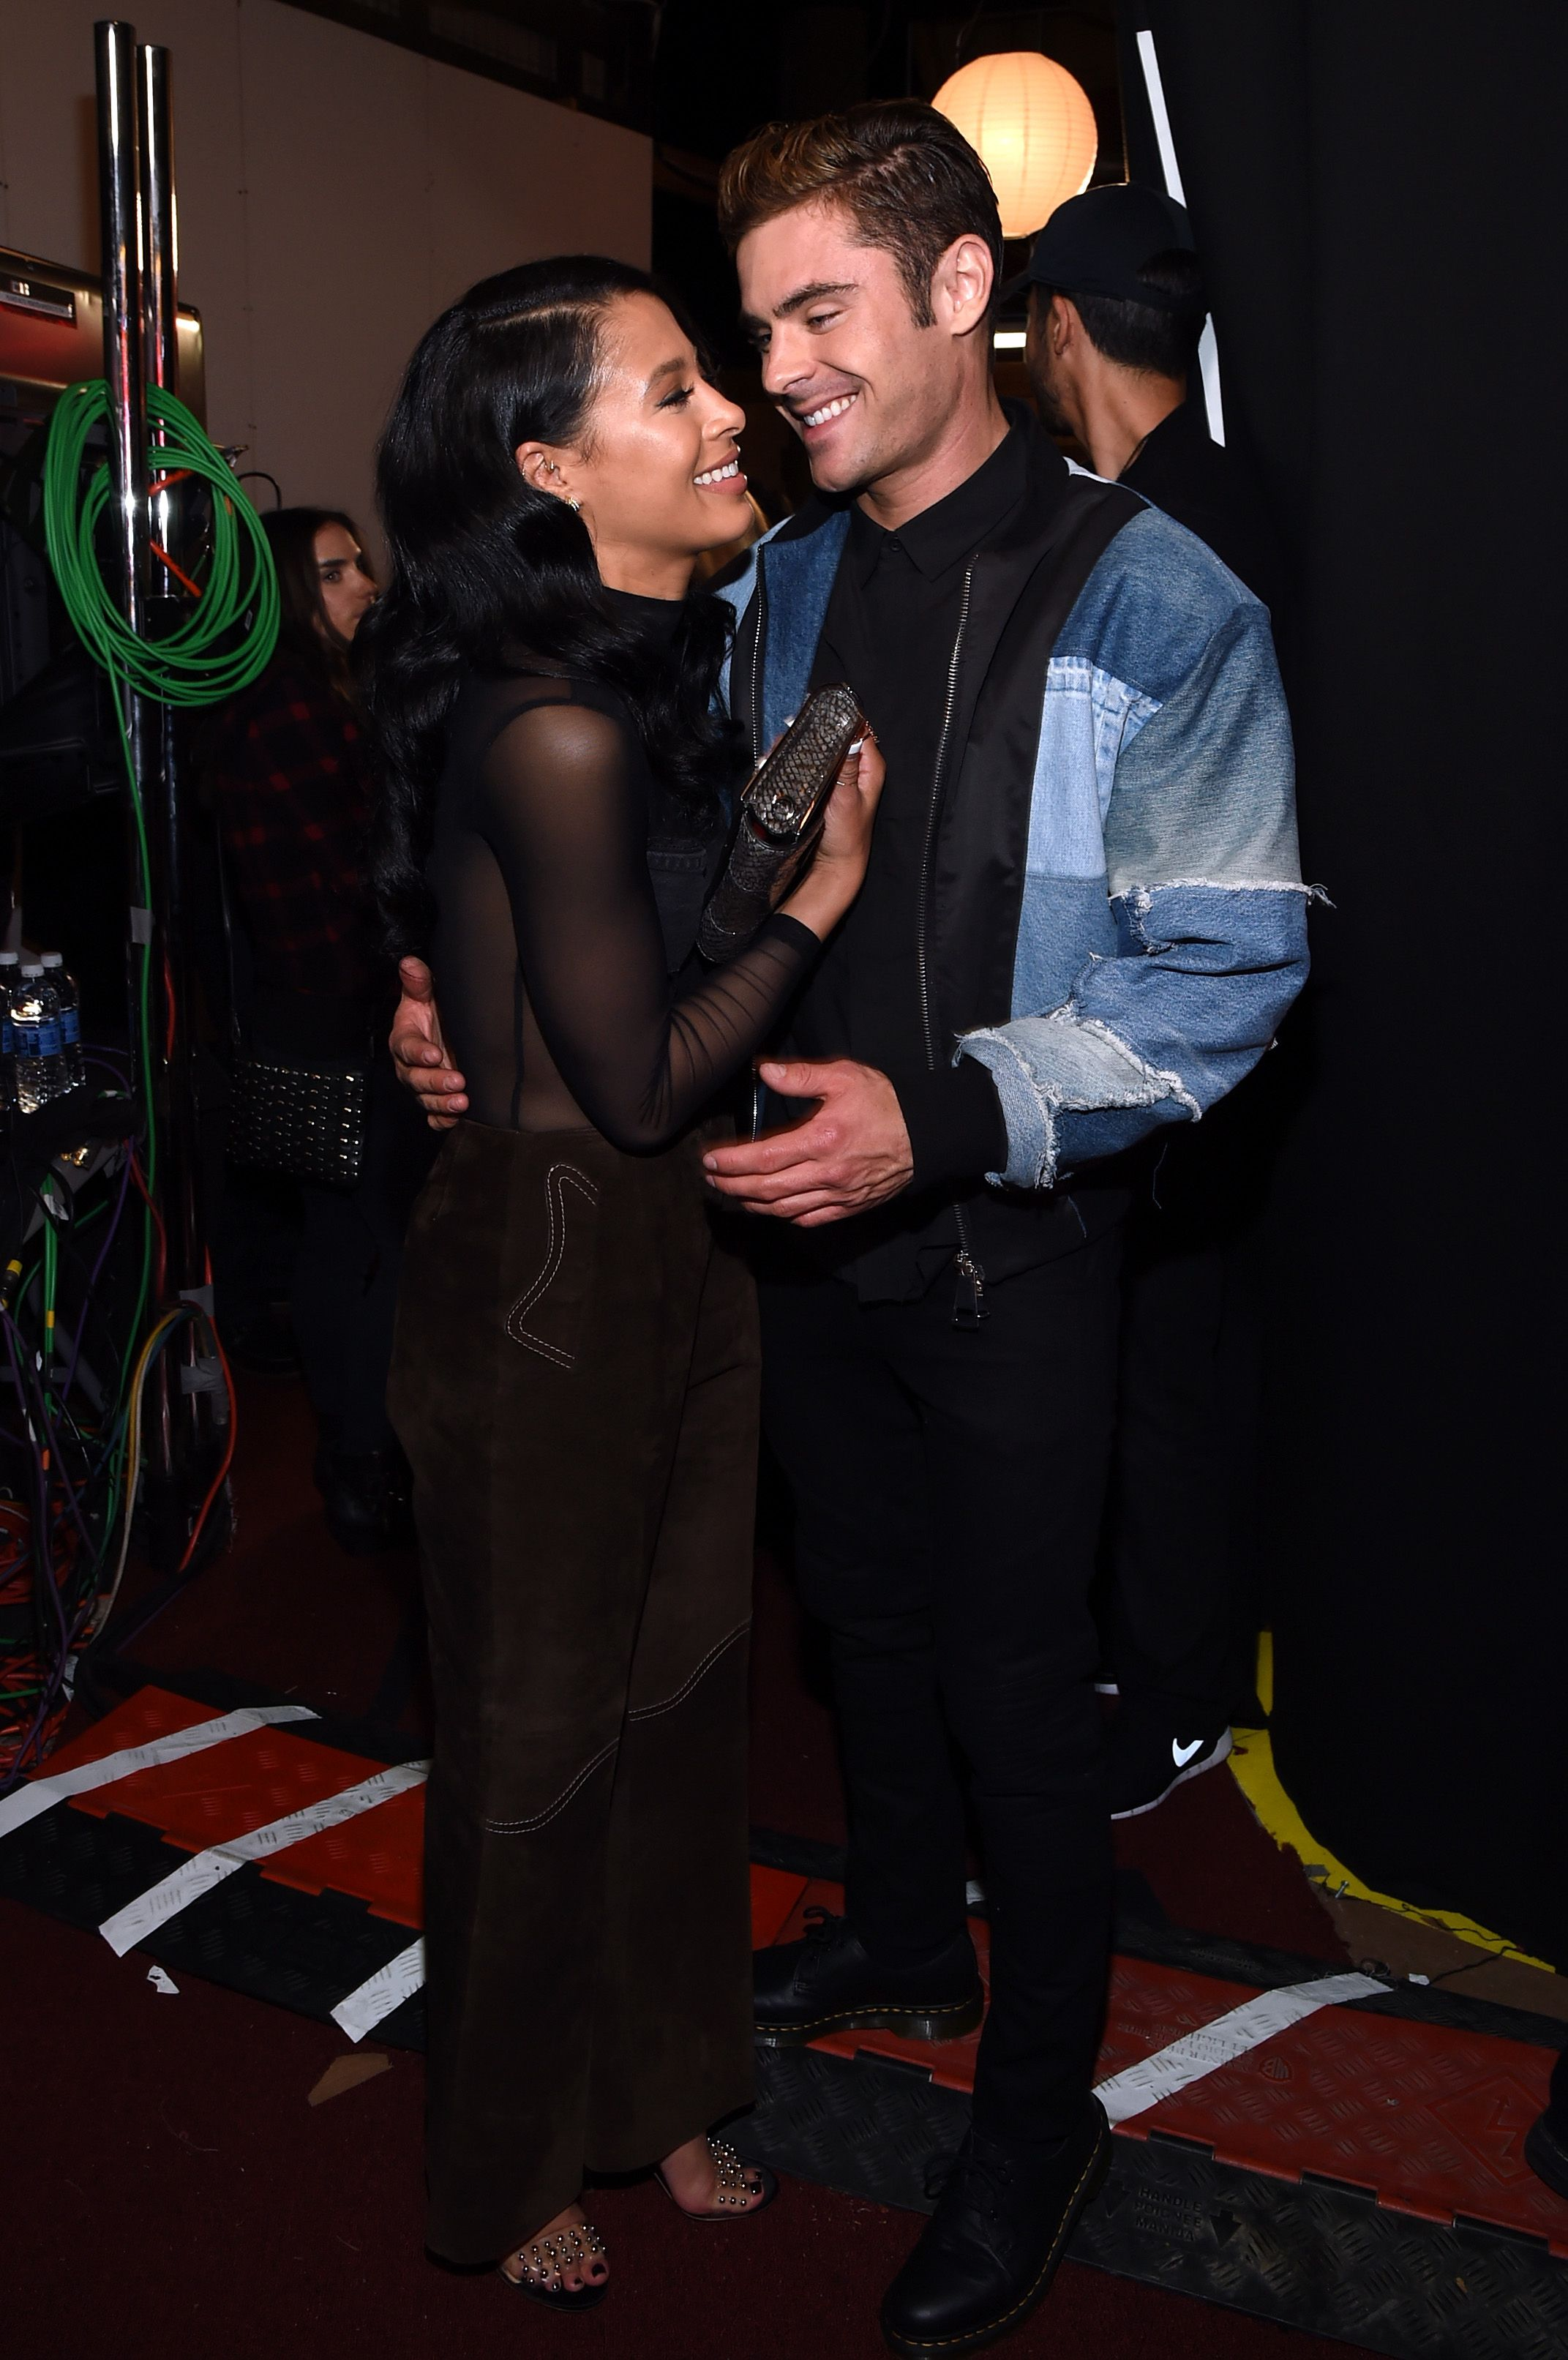Person: (704, 102, 1312, 2350), (364, 252, 888, 2305)
